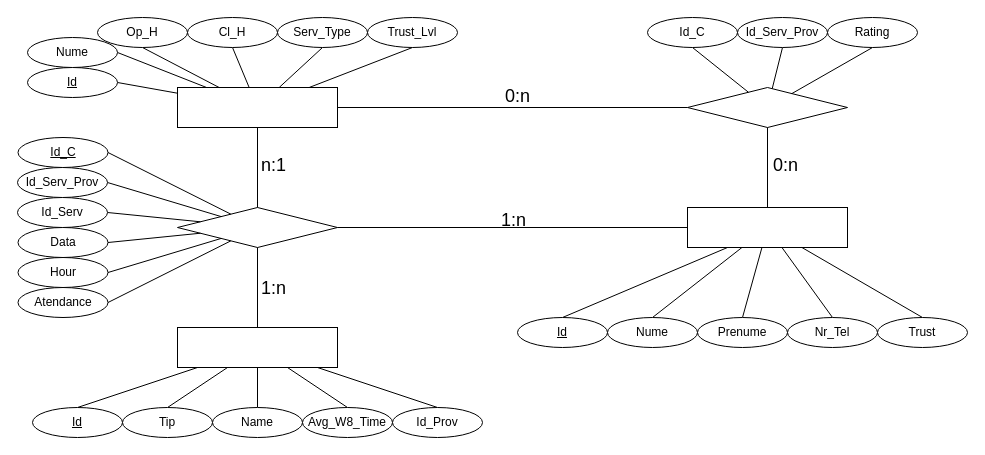
This 985x455 diagram has some shape labels left out. The box of each missing label's shape, as (x1, y1, x2, y2) in pixels:
CLIENTI: (686, 206, 848, 248)
PROGRAMARI: (176, 206, 338, 248)
REVIEWS: (686, 86, 848, 128)
SERVICE_PROVIDERS: (176, 86, 338, 128)
SERVICES: (176, 326, 338, 368)
